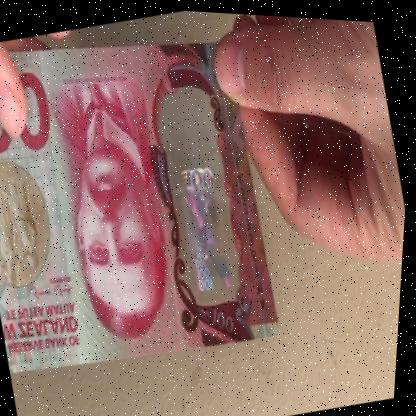100F: (156, 104, 252, 299)
